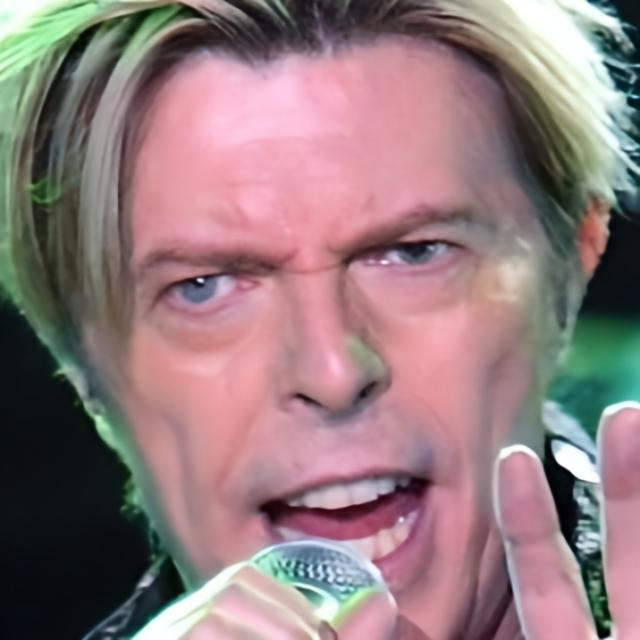anger: (116, 58, 528, 639)
